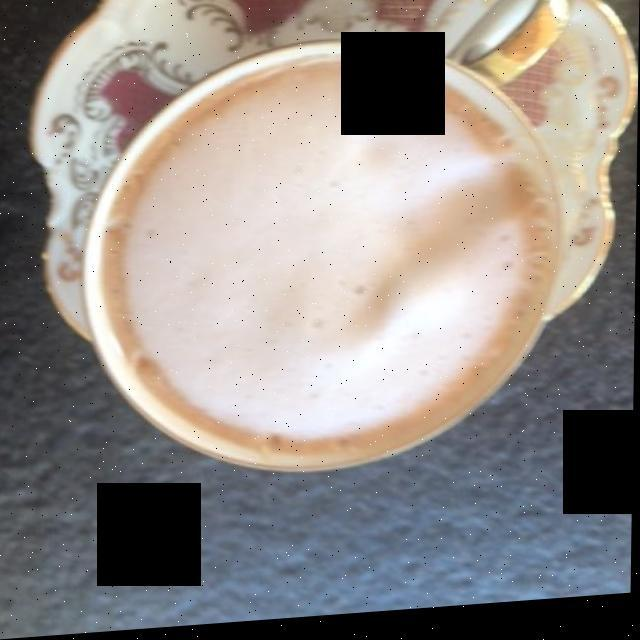cappuccino: (118, 71, 543, 456)
